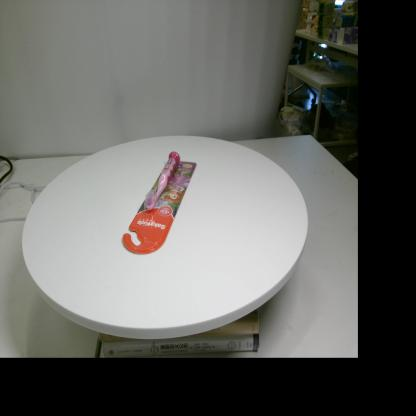Personal Hygiene: (122, 151, 197, 255)
